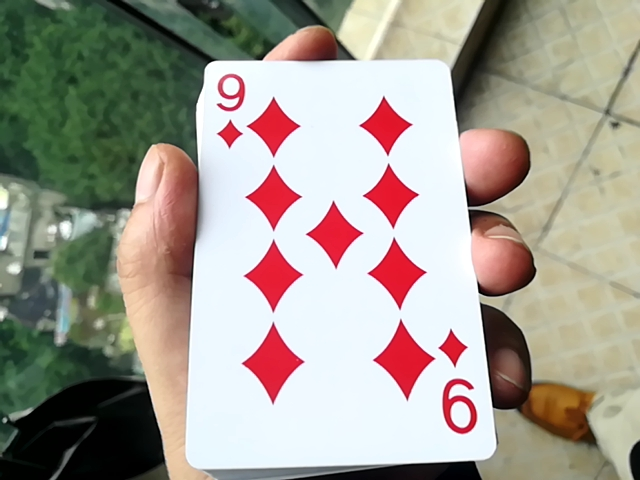fk 9: (158, 49, 483, 479)
